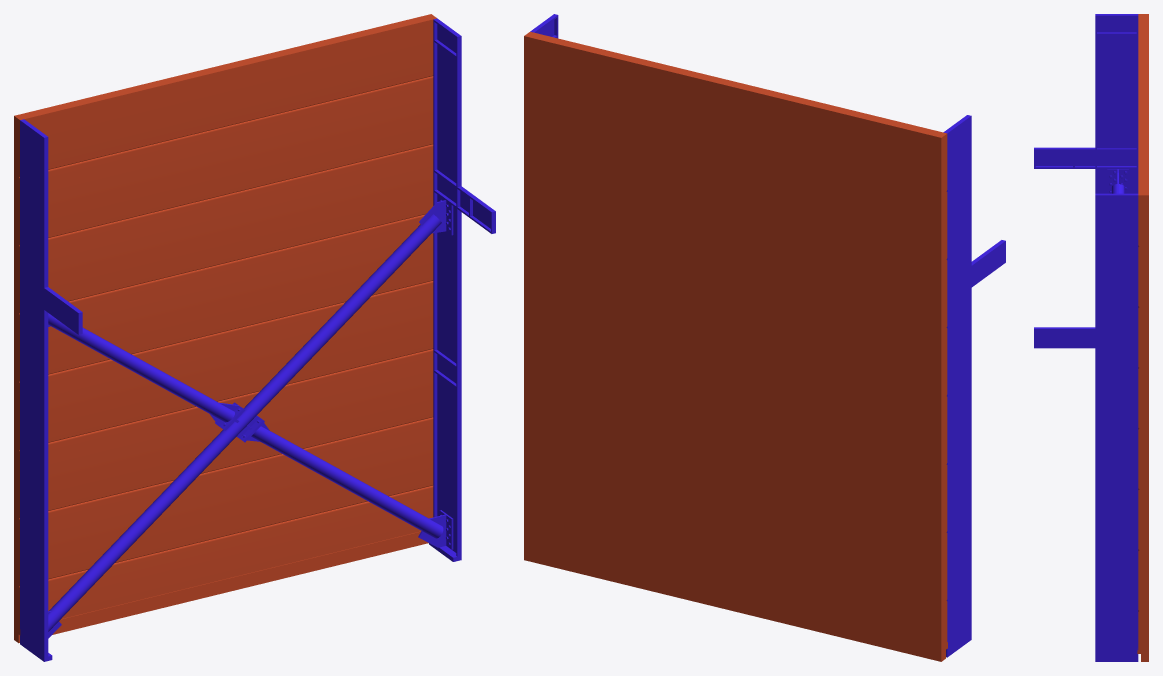
The model's file is Wall_A.glb.
3 views of the same model, side by side, from view 1: azimuth 30°, elevation 25°; view 2: azimuth 150°, elevation 25°; view 3: azimuth 270°, elevation 25° (orthographic). The views are drawn at different scales.
Visible parts, largest first — view 1: Wall_A; view 2: Wall_A; view 3: Wall_A.
Boxes of the visible parts, x1,y1,x2,y2 form: Wall_A: (14,14,495,661); Wall_A: (524,14,1005,661); Wall_A: (1034,14,1148,661).
Size of the model in its own units: 10 by 12 by 2.68.
